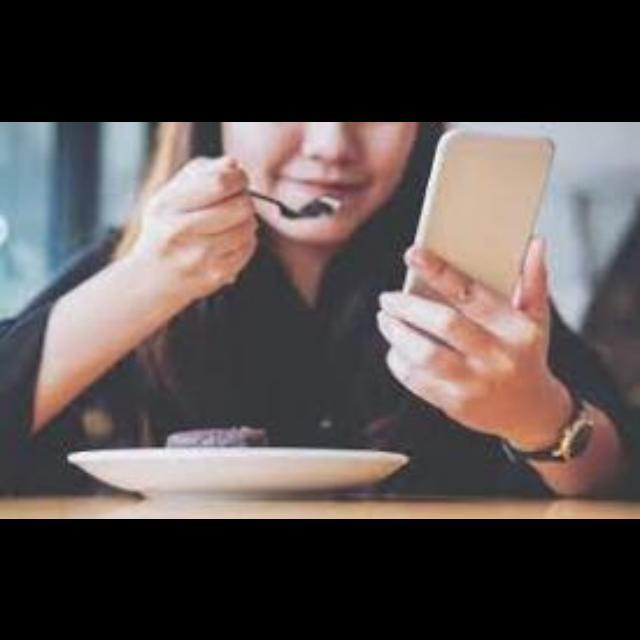PhoneUse: (402, 128, 556, 352)
